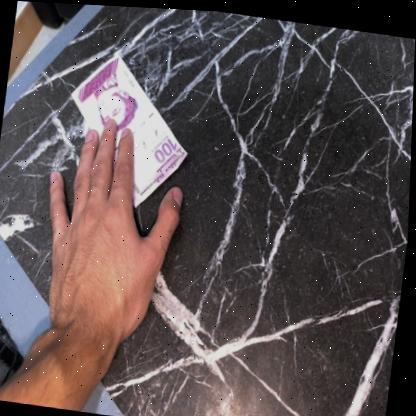one_hundred-front-vef: (59, 47, 201, 212)
